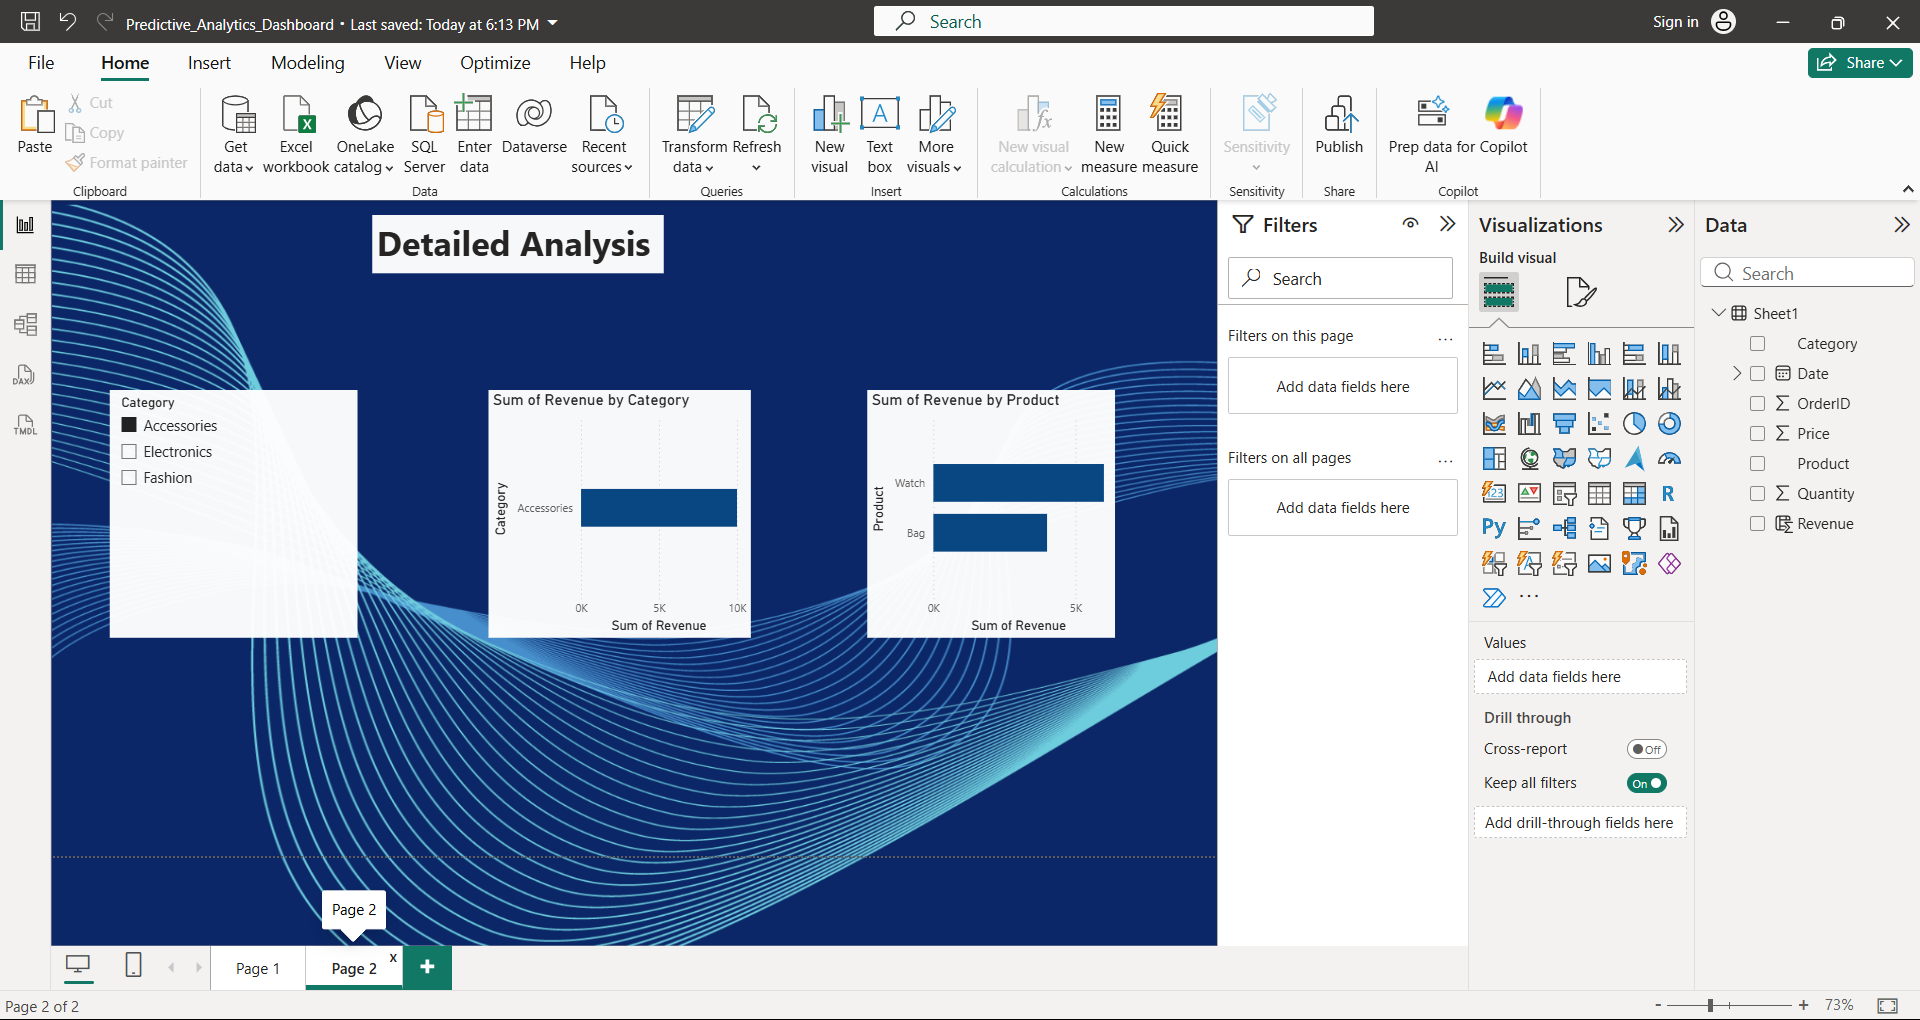

Layout of this report page (visuals, bound fields, positions):
{"tool":"powerbi","page":{"name":"Page 2","canvas":[1280,720],"ordinal":1},"visuals":[{"type":"slicer","fields":{"Values":["Sheet1.Category"]},"box":[64,208,272,272],"z":0},{"type":"clusteredBarChart","fields":{"Category":["Sheet1.Category"],"Y":["Sum(Sheet1.Revenue)"]},"box":[480,208,288,272],"z":1000},{"type":"clusteredBarChart","fields":{"Category":["Sheet1.Product"],"Y":["Sum(Sheet1.Revenue)"]},"box":[896,208,272,272],"z":2000},{"type":"textbox","box":[352,16,320,64],"z":2001}]}

Visuals, with their boxes on the page's 1280x720 design canvas (x1, y1, x2, y2). These are canvas units, not pixel positions in the 1920x1020 screenshot, which may show the page scaled, cropped or inside an application window:
slicer - Sheet1.Category: [x1=64, y1=208, x2=336, y2=480]
clusteredBarChart - Sheet1.Category x Sum(Sheet1.Revenue): [x1=480, y1=208, x2=768, y2=480]
clusteredBarChart - Sheet1.Product x Sum(Sheet1.Revenue): [x1=896, y1=208, x2=1168, y2=480]
textbox: [x1=352, y1=16, x2=672, y2=80]
